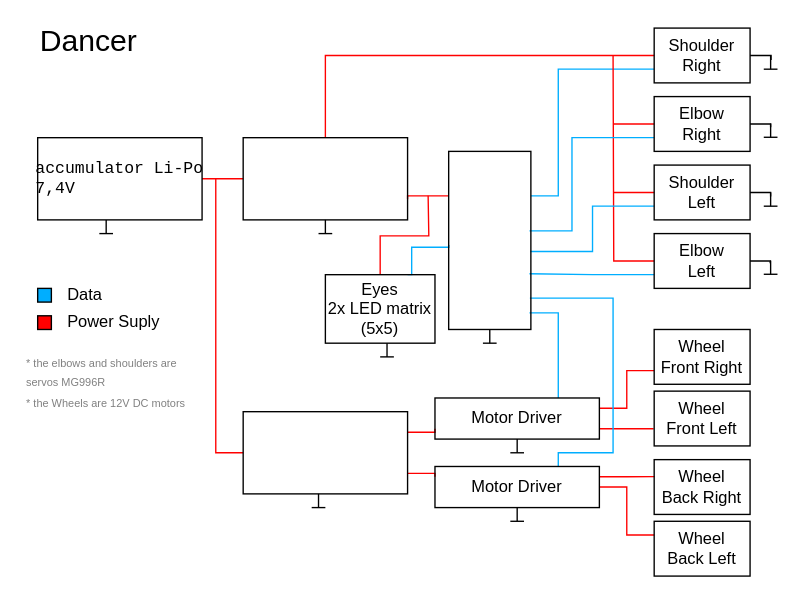
This 803x600 diagram has some shape labels left out. The box of each missing label's shape, as (x1, y1, x2, y2) in pixels:
ESP: (447, 150, 531, 329)
Step down Converter (5V): (242, 136, 408, 220)
Step up Converter (12V) 2x: (242, 410, 408, 494)
